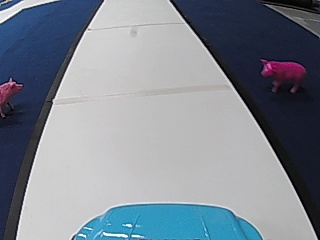pig: (256, 56, 308, 93), (0, 76, 23, 115)
